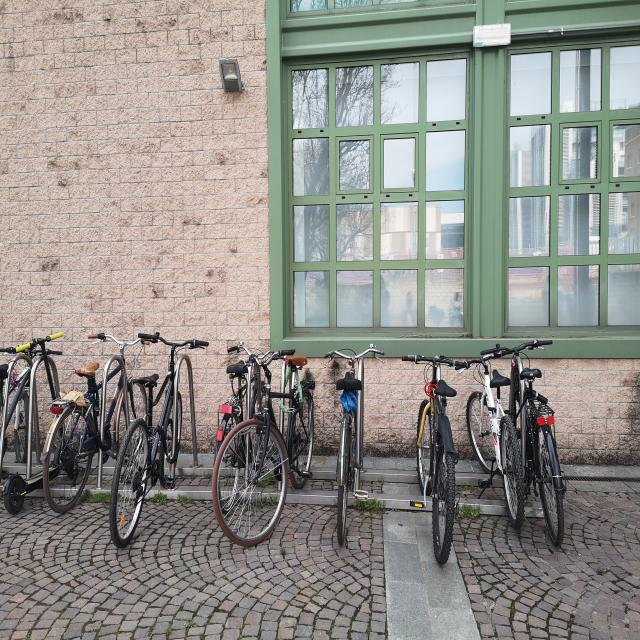Bicycle: (106, 327, 206, 560), (214, 342, 319, 546), (46, 322, 150, 524), (508, 327, 580, 560), (400, 354, 465, 564), (469, 326, 531, 545), (5, 319, 62, 516), (327, 329, 373, 559), (222, 338, 275, 459)
